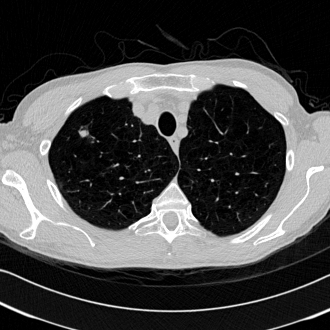nodule: (79, 129, 87, 137)
